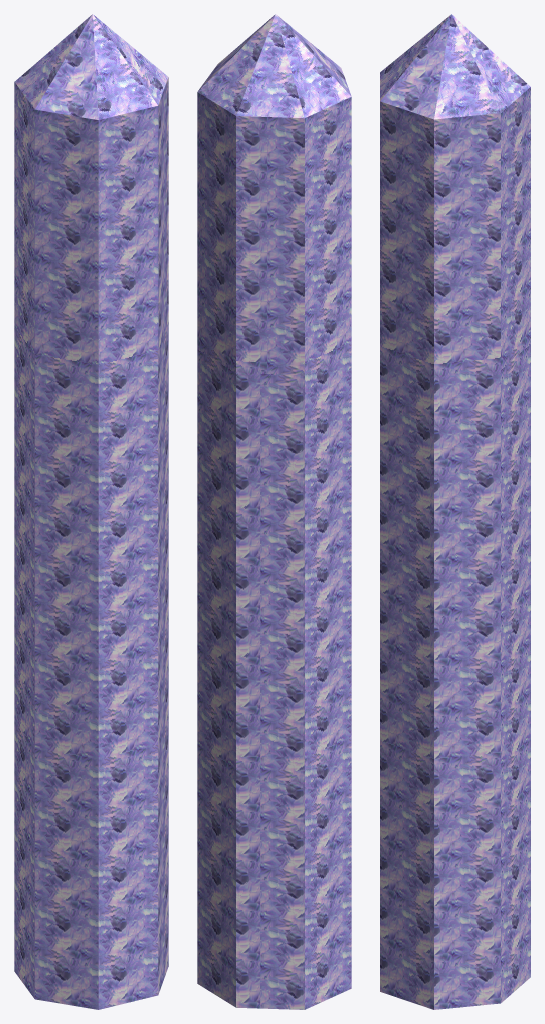
Rendered from crystall.gltf.
The picture shows the model from 3 angles, left to right: view 1: azimuth 30°, elevation 25°; view 2: azimuth 150°, elevation 25°; view 3: azimuth 270°, elevation 25°; orthographic projection.
Parts seen in each view (by area): view 1: cylinder; view 2: cylinder; view 3: cylinder.
Part boxes in pixels (bbox=[...]): cylinder: bbox=[14, 14, 168, 1009]; cylinder: bbox=[197, 14, 351, 1009]; cylinder: bbox=[380, 14, 530, 1009].
Size of the model in its own units: 1.08 by 7.44 by 1.05.
1 material, 1 textured.
